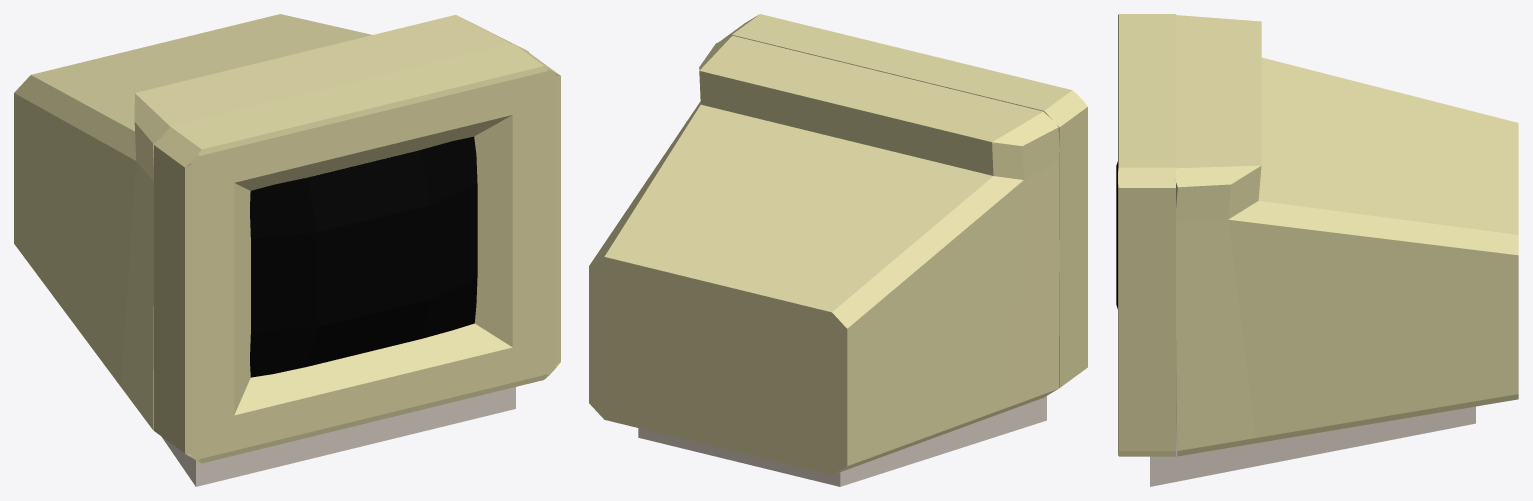
The model's file is Computer monitor.fbx.
3 views of the same model, side by side, from view 1: azimuth 30°, elevation 25°; view 2: azimuth 150°, elevation 25°; view 3: azimuth 270°, elevation 25° (orthographic). The views are drawn at different scales.
Visible parts, largest first — view 1: Cube.030, Cube.032, Cube.031; view 2: Cube.030, Cube.031; view 3: Cube.030, Cube.031.
Part boxes in pixels (x1,y1,x2,y2): Cube.030: (14, 14, 560, 463); Cube.032: (250, 136, 477, 377); Cube.031: (161, 387, 515, 486); Cube.030: (589, 14, 1087, 475); Cube.031: (638, 396, 1046, 486); Cube.030: (1118, 14, 1518, 456); Cube.031: (1150, 406, 1475, 486).
Size of the model in its own units: 652 by 584 by 657.
